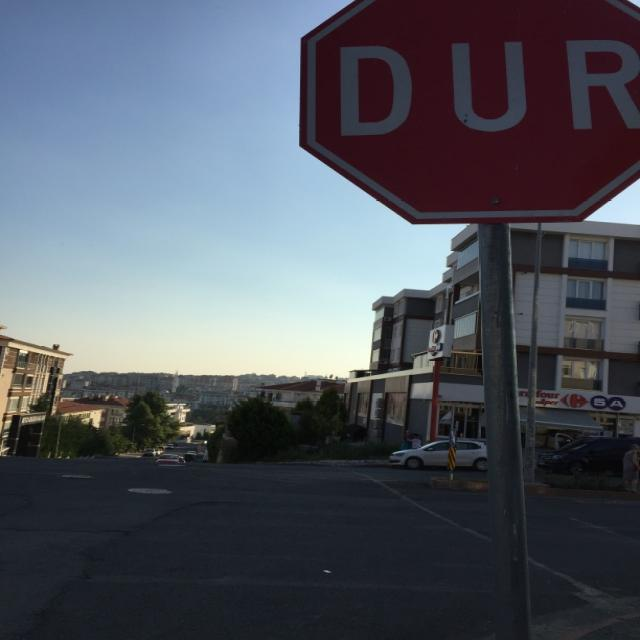dur: (299, 1, 640, 226)
